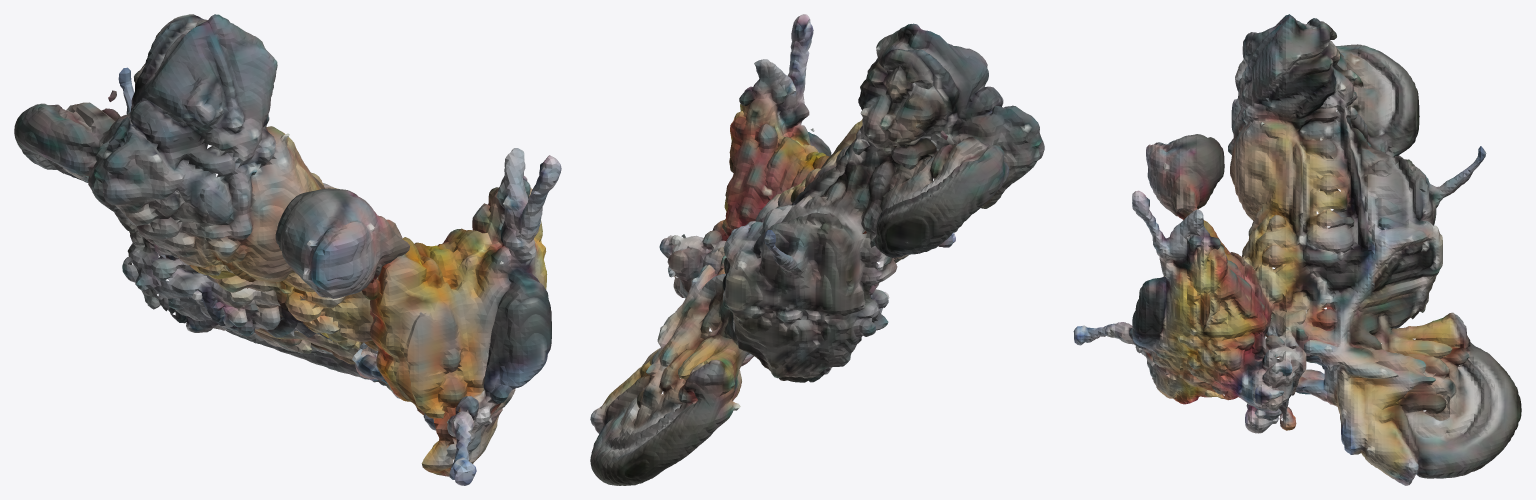
Rendered from 000005_motorcycle_vehicle_collector's item.glb.
3 renders of one model, left to right at view 1: azimuth 30°, elevation 25°; view 2: azimuth 150°, elevation 25°; view 3: azimuth 270°, elevation 25°, orthographic. The views are drawn at different scales.
Parts seen in each view (by area): view 1: world; view 2: world; view 3: world.
Part boxes in pixels (x1,y1,x2,y2): world: [14, 14, 561, 485]; world: [590, 14, 1044, 485]; world: [1073, 14, 1521, 485].
Bounding box in the file's own units: 0.7544 × 0.8198 × 0.8943.
